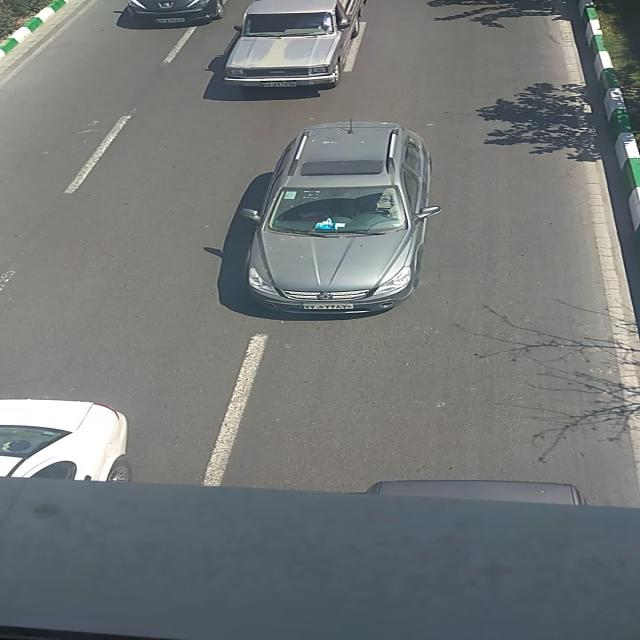car: (240, 121, 441, 315), (224, 0, 370, 88), (0, 403, 131, 478), (127, 0, 224, 22)
